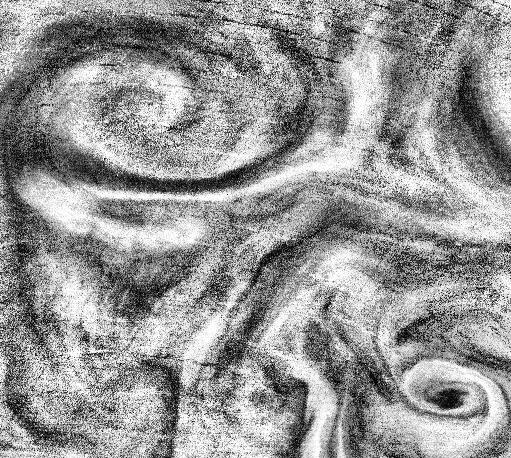CE: (24, 31, 260, 191), (404, 361, 491, 418)
